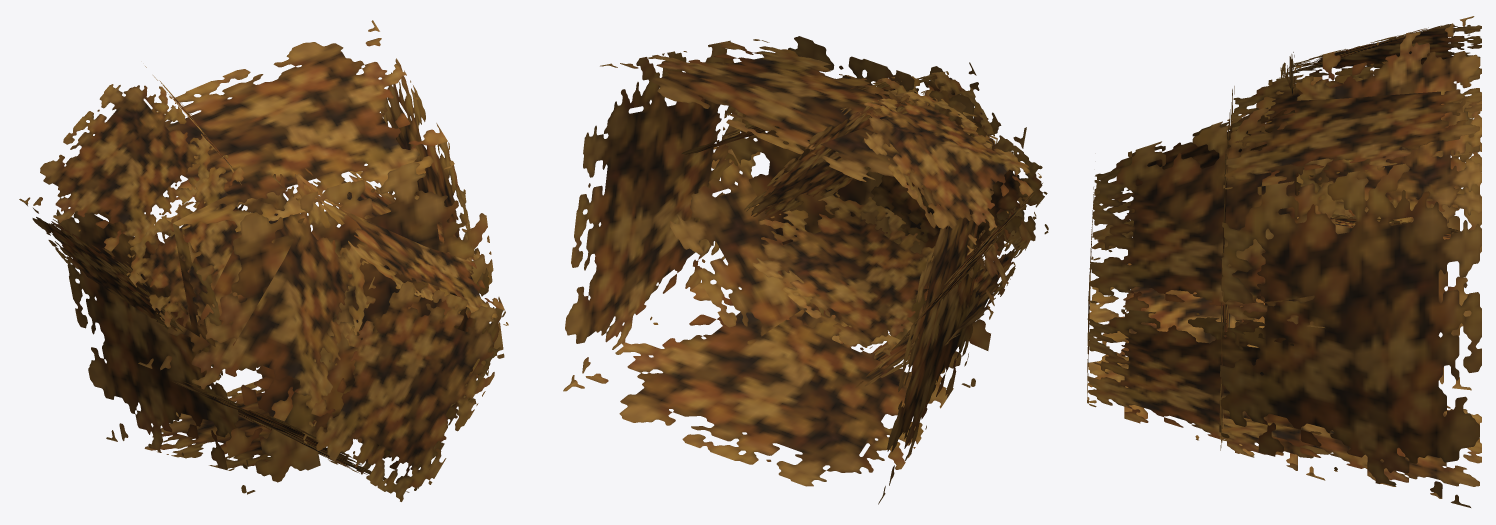
Rendered from keep-round-autumn.obj.
3 views of the same model, side by side, from view 1: azimuth 30°, elevation 25°; view 2: azimuth 150°, elevation 25°; view 3: azimuth 270°, elevation 25° (orthographic). The views are drawn at different scales.
Bounding box in the file's own units: 0.9737 × 0.9191 × 0.8084.
1 material, 1 textured.
